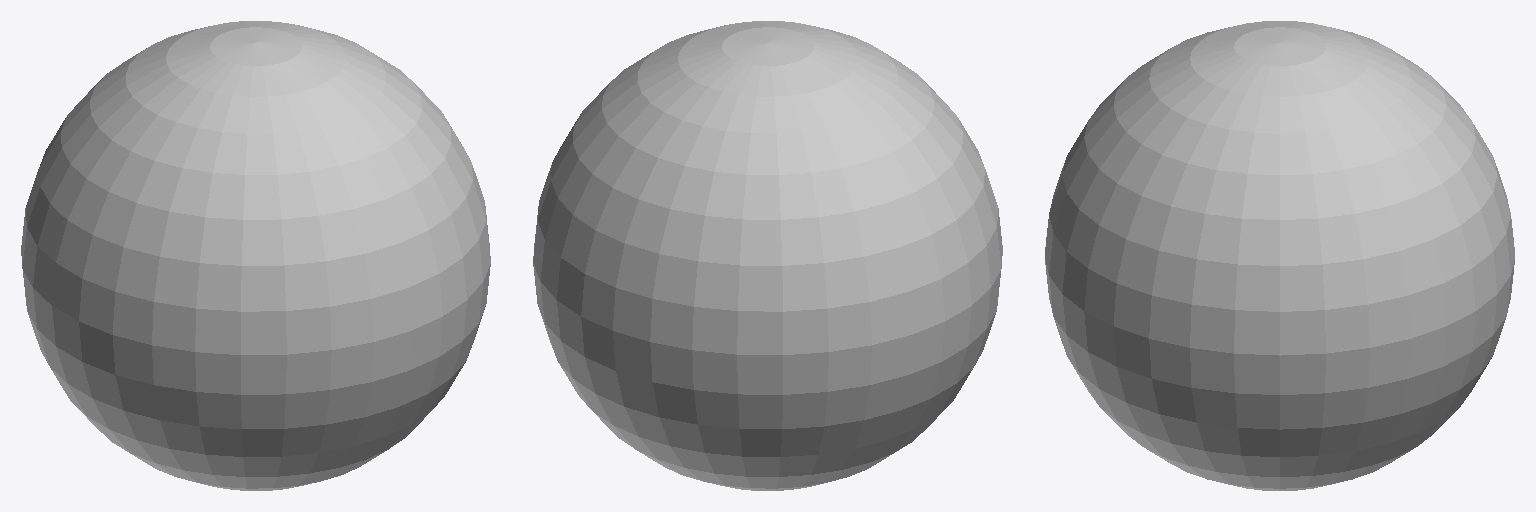
Rendered from uranus.obj.
3 renders of one model, left to right at view 1: azimuth 30°, elevation 25°; view 2: azimuth 150°, elevation 25°; view 3: azimuth 270°, elevation 25°, orthographic.
Parts seen in each view (by area): view 1: Сфера; view 2: Сфера; view 3: Сфера.
Boxes of the visible parts, box(x1,y1,x2,y2) form: Сфера: box(21, 21, 490, 490); Сфера: box(533, 21, 1002, 490); Сфера: box(1045, 21, 1514, 490).
Bounding box in the file's own units: 1.03 × 1.03 × 1.03.